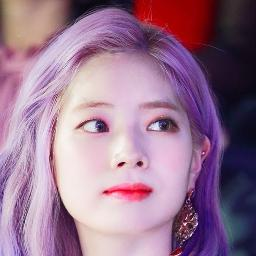winterCool: (66, 72, 176, 230)
